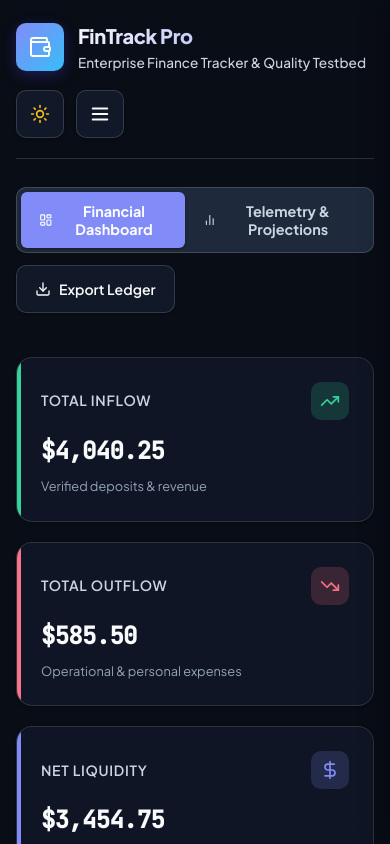
Test: Phase 5 Verification: Performance & Accessibility Compliance › verifies mobile navigation drawer opens, traps focus, and closes on Escape key
Click the button with test id "mobile-menu-trigger" at (100, 114), box [76,90,124,138]
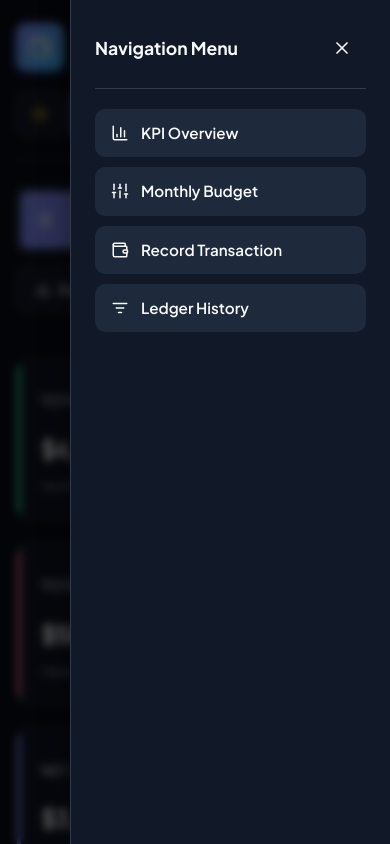
Now the button with test id "mobile-menu-trigger" is expanded, box [76,90,124,138]
// Press Escape to dismiss drawer
Press Escape
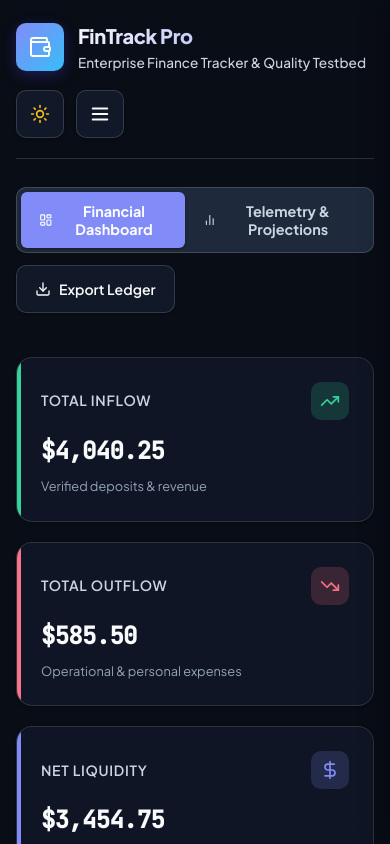
Now the button with test id "mobile-menu-trigger" is collapsed, box [76,90,124,138]
